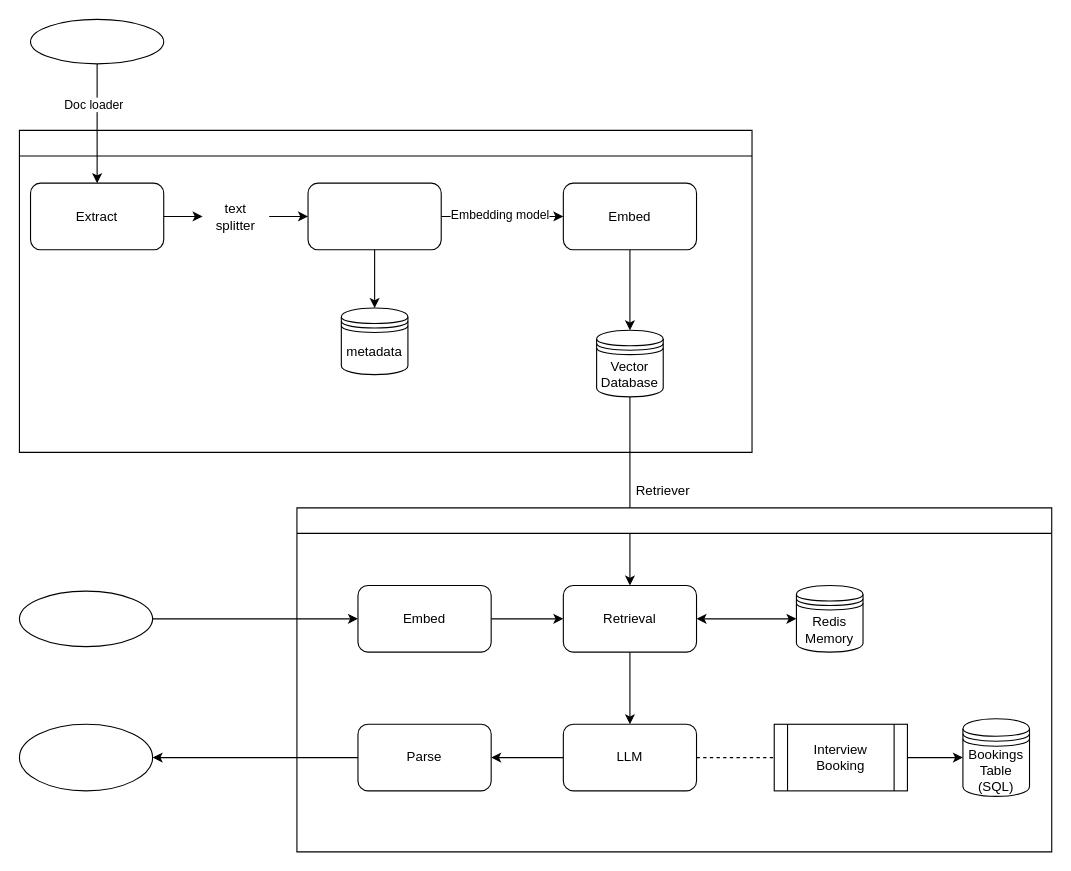
Image size: 1071x871. Some labels were removed from this diagram. The shapes that lost their labels are listed below. From the top down, each one's box as (x1, y1, x2, y2) in pixels, then its label:
(29, 18, 164, 64): Upload pdf
(307, 182, 441, 250): Chunk
(18, 129, 752, 452): Document Ingestion API
(18, 590, 153, 647): Query
(296, 507, 1052, 852): Conversational RAG API
(18, 723, 153, 791): Response
